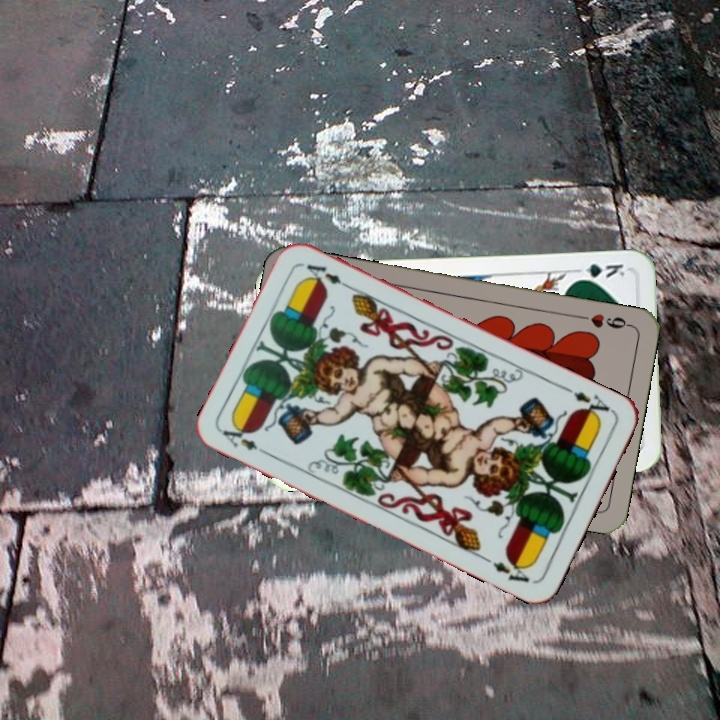EA: (218, 421, 273, 459), (569, 387, 616, 422)
GK: (570, 259, 627, 283)
H9: (575, 309, 634, 332)
